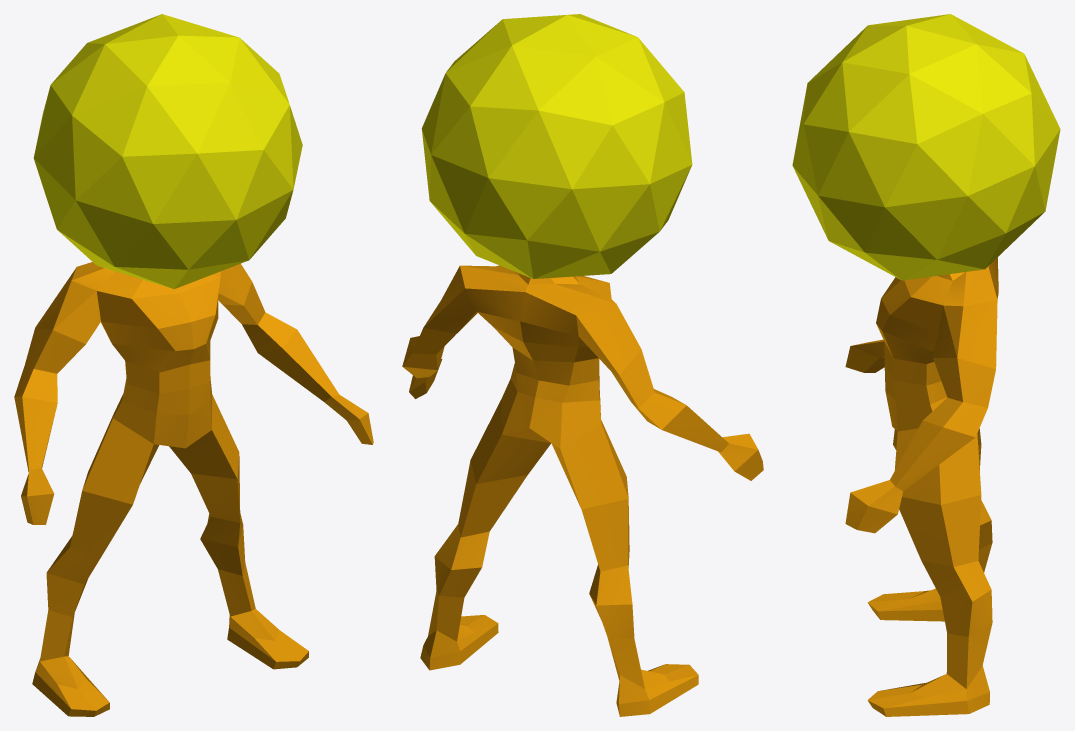
The model's file is sonce-proto.gltf.
3 renders of one model, left to right at view 1: azimuth 30°, elevation 25°; view 2: azimuth 150°, elevation 25°; view 3: azimuth 270°, elevation 25°, orthographic. The views are drawn at different scales.
Visible parts, largest first — view 1: Icosphere; view 2: Icosphere; view 3: Icosphere.
Boxes of the visible parts, <box> form: Icosphere: <box>14,14,373,716</box>; Icosphere: <box>402,14,763,716</box>; Icosphere: <box>792,14,1060,716</box>.
Bounding box in the file's own units: 1.03 × 1.86 × 0.7126.
